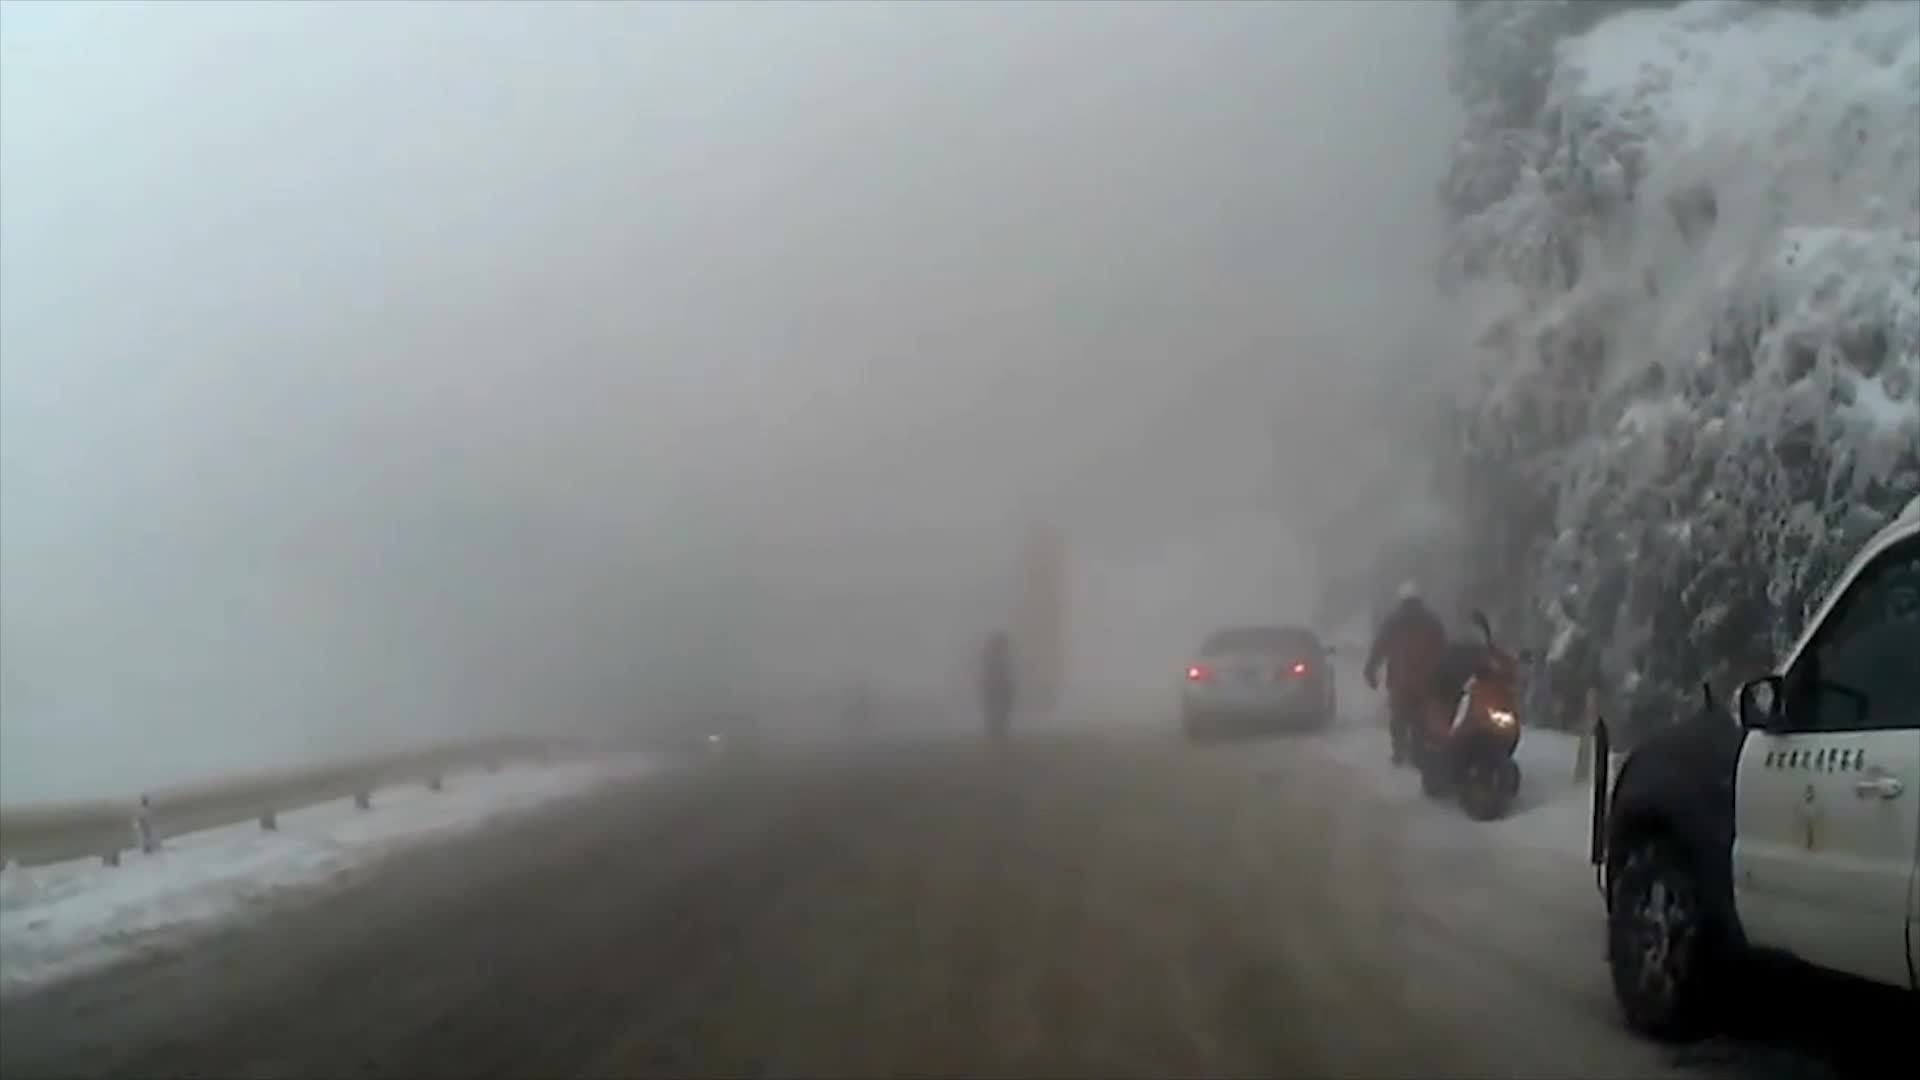pedestrian: (1366, 574, 1461, 768), (983, 632, 1019, 759)
vehicle: (1586, 502, 1917, 1080), (1178, 620, 1340, 743)
